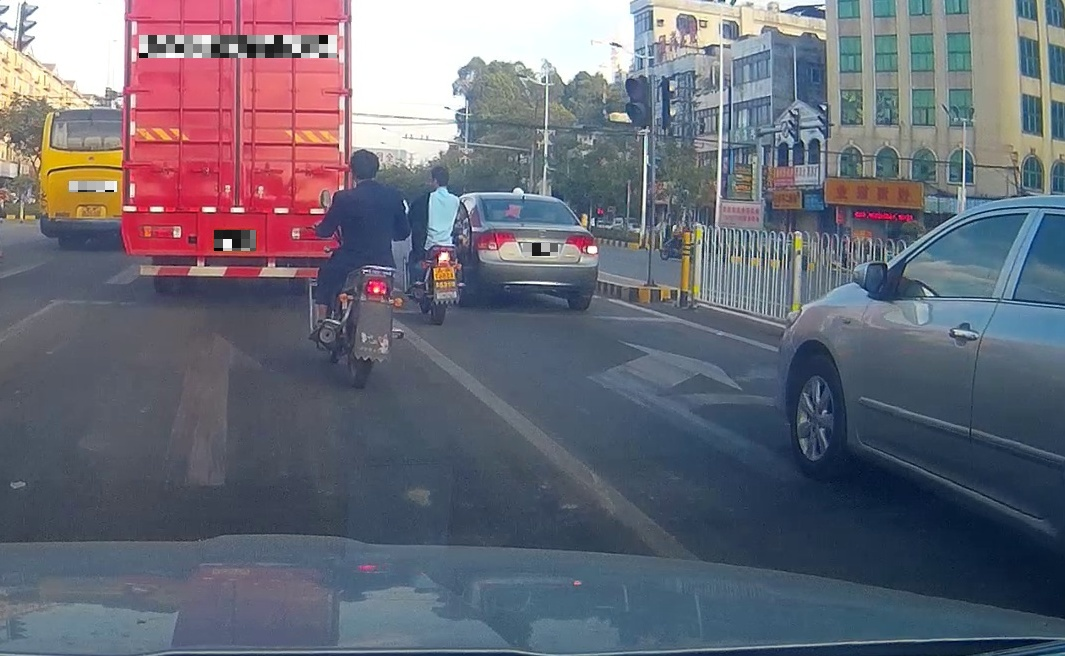L_light: (476, 230, 516, 251)
R_light: (566, 234, 597, 255)
T_light: (516, 199, 531, 203)
day-right: (474, 192, 599, 311)
plate_1: (69, 181, 117, 192)
plate_2: (139, 35, 337, 58)
plate_3: (214, 230, 256, 251)
plate_4: (523, 243, 558, 256)
